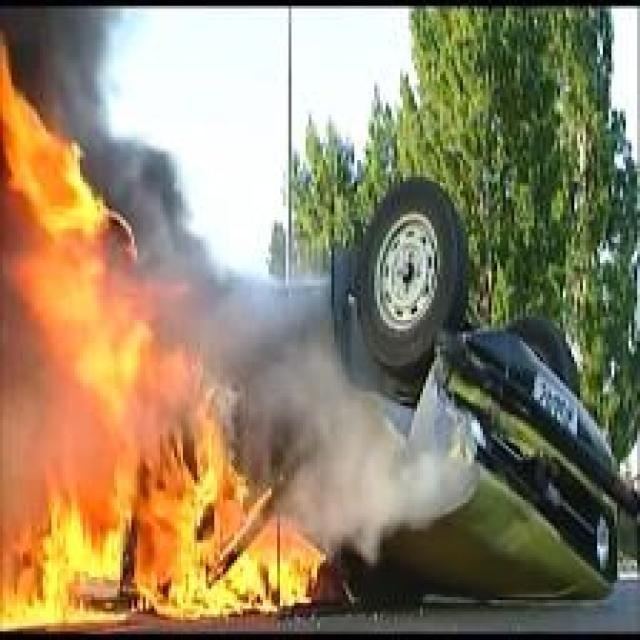Fire: (1, 39, 328, 627)
